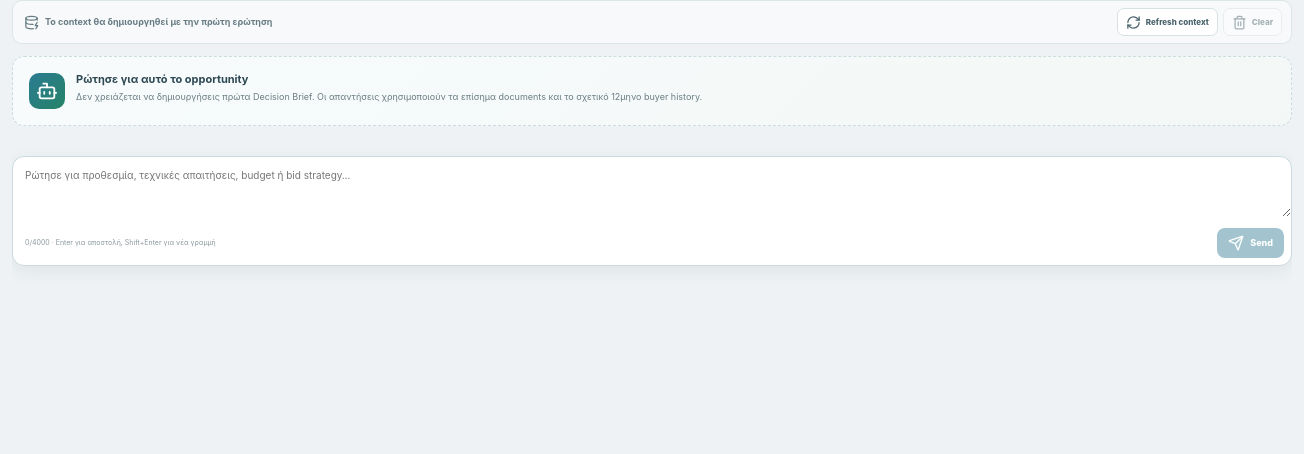
Test: Opportunity AI workspace › keeps a failed message retryable and can clear the saved chat
The width and height of the screenshot is (1304, 454).
Check: the heading "Ρώτησε για αυτό το opportunity" is shown, box x1=76 y1=72 x2=248 y2=86
Type "Can we bid?" into the text box.
click(652, 187); type("Can we bid?")  # box x1=13 y1=157 x2=1291 y2=217
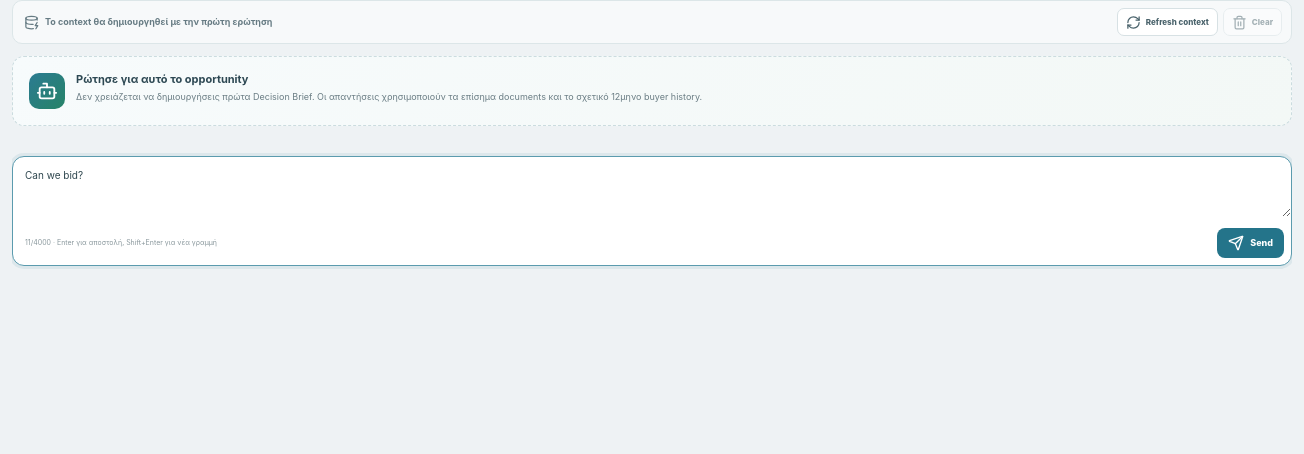
Click the button "Send".
click(1251, 243)  # box x1=1217 y1=228 x2=1284 y2=258
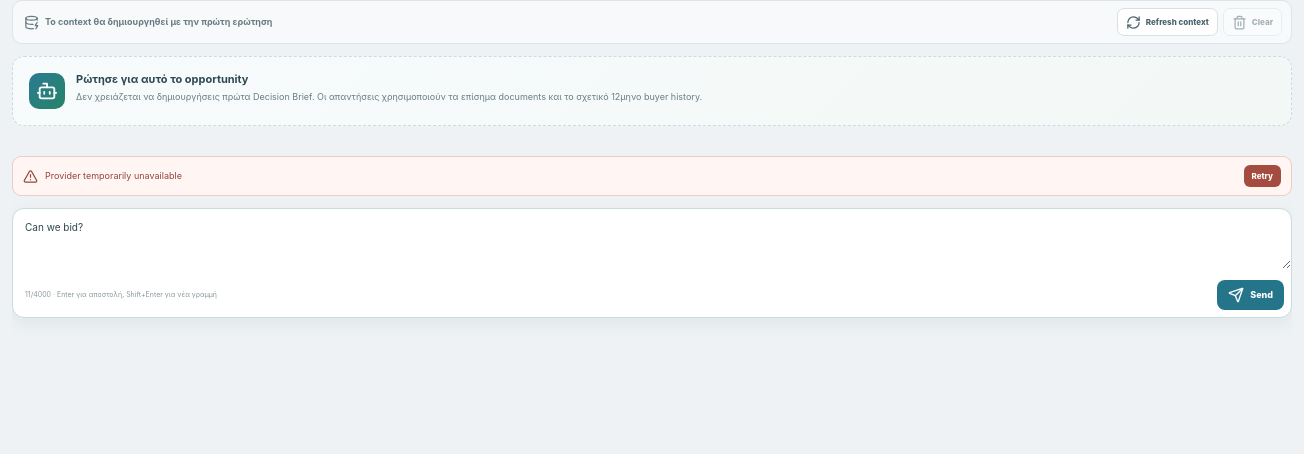
Check: the button "Retry" is shown
Click the button "Retry".
click(1262, 176)  # box x1=1244 y1=165 x2=1281 y2=187
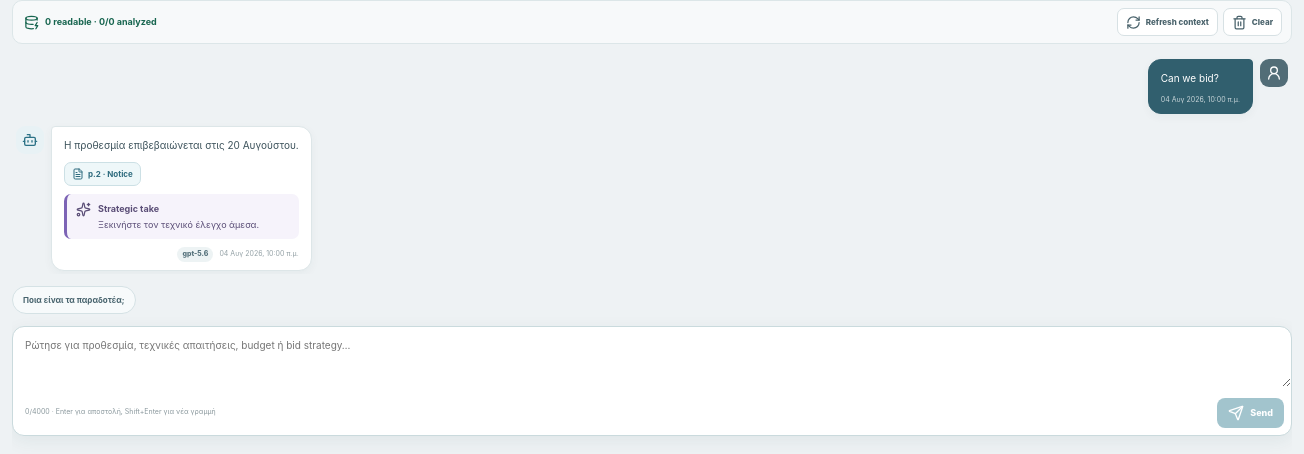
Check: the text "Η προθεσμία επιβεβαιώνεται στις 20 Αυγούστου." is shown, box x1=64 y1=138 x2=299 y2=154
Click the button "Clear".
click(1252, 22)  # box x1=1223 y1=8 x2=1282 y2=36
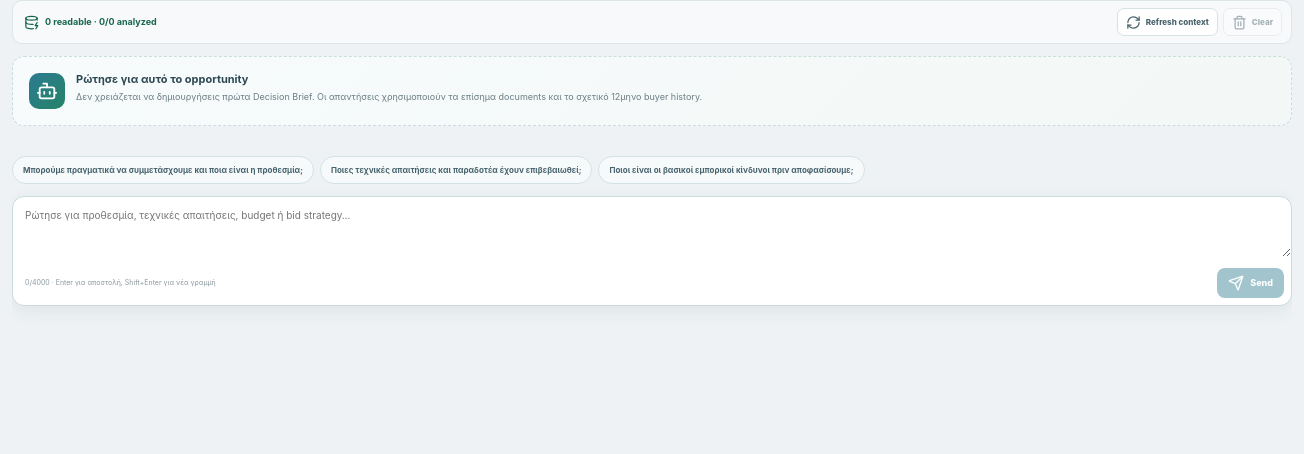
Check: the text "Η προθεσμία επιβεβαιώνεται στις 20 Αυγούστου." is gone
